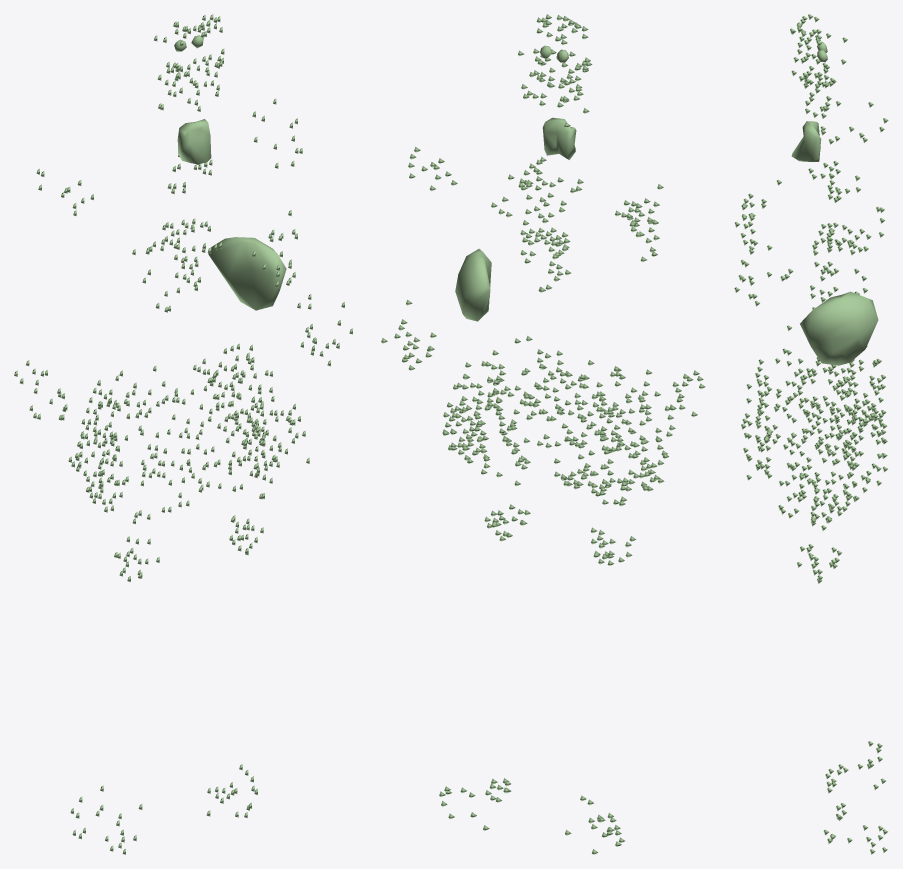
Rendered from pediatric_adolescent_female.lymphatic.LOD3.glb.
The picture shows the model from 3 angles, left to right: view 1: azimuth 30°, elevation 25°; view 2: azimuth 150°, elevation 25°; view 3: azimuth 270°, elevation 25°; orthographic projection. The views are drawn at different scales.
Visible parts, largest first — view 1: PEDIATRIC.ADOLESCENT.FEMALE.LYMPHATIC.LYMPHATIC_NODES_TRUNK, PEDIATRIC.ADOLESCENT.FEMALE.LYMPHATIC.SPLEEN, PEDIATRIC.ADOLESCENT.FEMALE.LYMPHATIC.THYMUS, PEDIATRIC.ADOLESCENT.FEMALE.LYMPHATIC.LYMPHATIC_NODES_ET, PEDIATRIC.ADOLESCENT.FEMALE.LYMPHATIC.LYMPHATIC_NODES_THORAC, PEDIATRIC.ADOLESCENT.FEMALE.LYMPHATIC.LYMPHATIC_NODES_LEGS, PEDIATRIC.ADOLESCENT.FEMALE.LYMPHATIC.LYMPHATIC_NODES_ARMS; view 2: PEDIATRIC.ADOLESCENT.FEMALE.LYMPHATIC.LYMPHATIC_NODES_TRUNK, PEDIATRIC.ADOLESCENT.FEMALE.LYMPHATIC.SPLEEN, PEDIATRIC.ADOLESCENT.FEMALE.LYMPHATIC.LYMPHATIC_NODES_THORAC, PEDIATRIC.ADOLESCENT.FEMALE.LYMPHATIC.LYMPHATIC_NODES_ET, PEDIATRIC.ADOLESCENT.FEMALE.LYMPHATIC.THYMUS, PEDIATRIC.ADOLESCENT.FEMALE.LYMPHATIC.LYMPHATIC_NODES_ARMS, PEDIATRIC.ADOLESCENT.FEMALE.LYMPHATIC.LYMPHATIC_NODES_LEGS; view 3: PEDIATRIC.ADOLESCENT.FEMALE.LYMPHATIC.LYMPHATIC_NODES_TRUNK, PEDIATRIC.ADOLESCENT.FEMALE.LYMPHATIC.SPLEEN, PEDIATRIC.ADOLESCENT.FEMALE.LYMPHATIC.LYMPHATIC_NODES_THORAC, PEDIATRIC.ADOLESCENT.FEMALE.LYMPHATIC.LYMPHATIC_NODES_ET, PEDIATRIC.ADOLESCENT.FEMALE.LYMPHATIC.THYMUS, PEDIATRIC.ADOLESCENT.FEMALE.LYMPHATIC.LYMPHATIC_NODES_LEGS, PEDIATRIC.ADOLESCENT.FEMALE.LYMPHATIC.LYMPHATIC_NODES_ARMS, PEDIATRIC.ADOLESCENT.FEMALE.LYMPHATIC.LYMPHATIC_NODES_HEAD.
Boxes of the visible parts, x1,y1,x2,y2 form: PEDIATRIC.ADOLESCENT.FEMALE.LYMPHATIC.LYMPHATIC_NODES_TRUNK: [36, 98, 309, 581]; PEDIATRIC.ADOLESCENT.FEMALE.LYMPHATIC.SPLEEN: [208, 237, 286, 310]; PEDIATRIC.ADOLESCENT.FEMALE.LYMPHATIC.THYMUS: [177, 119, 211, 164]; PEDIATRIC.ADOLESCENT.FEMALE.LYMPHATIC.LYMPHATIC_NODES_ET: [154, 14, 224, 83]; PEDIATRIC.ADOLESCENT.FEMALE.LYMPHATIC.LYMPHATIC_NODES_THORAC: [145, 155, 221, 290]; PEDIATRIC.ADOLESCENT.FEMALE.LYMPHATIC.LYMPHATIC_NODES_LEGS: [70, 764, 257, 854]; PEDIATRIC.ADOLESCENT.FEMALE.LYMPHATIC.LYMPHATIC_NODES_ARMS: [14, 294, 352, 420]; PEDIATRIC.ADOLESCENT.FEMALE.LYMPHATIC.LYMPHATIC_NODES_TRUNK: [408, 146, 668, 565]; PEDIATRIC.ADOLESCENT.FEMALE.LYMPHATIC.SPLEEN: [455, 249, 491, 321]; PEDIATRIC.ADOLESCENT.FEMALE.LYMPHATIC.LYMPHATIC_NODES_THORAC: [518, 156, 583, 292]; PEDIATRIC.ADOLESCENT.FEMALE.LYMPHATIC.LYMPHATIC_NODES_ET: [518, 14, 592, 88]; PEDIATRIC.ADOLESCENT.FEMALE.LYMPHATIC.THYMUS: [542, 117, 576, 159]; PEDIATRIC.ADOLESCENT.FEMALE.LYMPHATIC.LYMPHATIC_NODES_ARMS: [381, 300, 705, 436]; PEDIATRIC.ADOLESCENT.FEMALE.LYMPHATIC.LYMPHATIC_NODES_LEGS: [439, 778, 624, 854]; PEDIATRIC.ADOLESCENT.FEMALE.LYMPHATIC.LYMPHATIC_NODES_TRUNK: [734, 102, 888, 583]; PEDIATRIC.ADOLESCENT.FEMALE.LYMPHATIC.SPLEEN: [800, 291, 878, 365]; PEDIATRIC.ADOLESCENT.FEMALE.LYMPHATIC.LYMPHATIC_NODES_THORAC: [808, 161, 862, 296]; PEDIATRIC.ADOLESCENT.FEMALE.LYMPHATIC.LYMPHATIC_NODES_ET: [790, 14, 847, 89]; PEDIATRIC.ADOLESCENT.FEMALE.LYMPHATIC.THYMUS: [791, 121, 821, 161]; PEDIATRIC.ADOLESCENT.FEMALE.LYMPHATIC.LYMPHATIC_NODES_LEGS: [823, 741, 887, 854]; PEDIATRIC.ADOLESCENT.FEMALE.LYMPHATIC.LYMPHATIC_NODES_ARMS: [809, 261, 867, 463]; PEDIATRIC.ADOLESCENT.FEMALE.LYMPHATIC.LYMPHATIC_NODES_HEAD: [803, 66, 841, 118].
Bounding box in the file's own units: 0.4358 × 1.08 × 0.1875.
